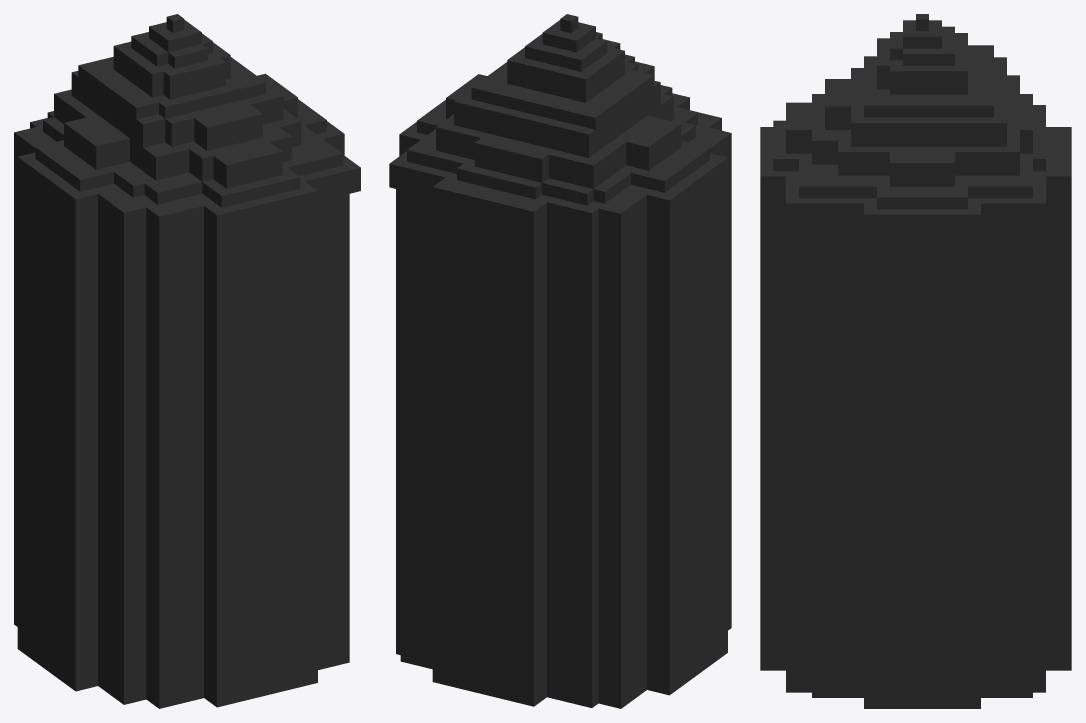
Rendered from cookerEdited.obj.
The picture shows the model from 3 angles, left to right: view 1: azimuth 30°, elevation 25°; view 2: azimuth 150°, elevation 25°; view 3: azimuth 270°, elevation 25°; orthographic projection.
Visible parts, largest first — view 1: player-banhbao-1; view 2: player-banhbao-1; view 3: player-banhbao-1.
Part boxes in pixels (<box>): player-banhbao-1: <box>14,14,360,708</box>; player-banhbao-1: <box>389,14,731,708</box>; player-banhbao-1: <box>760,14,1071,708</box>.
Bounding box in the file's own units: 2.4 × 5.3 × 2.4.
1 material, 1 textured.
